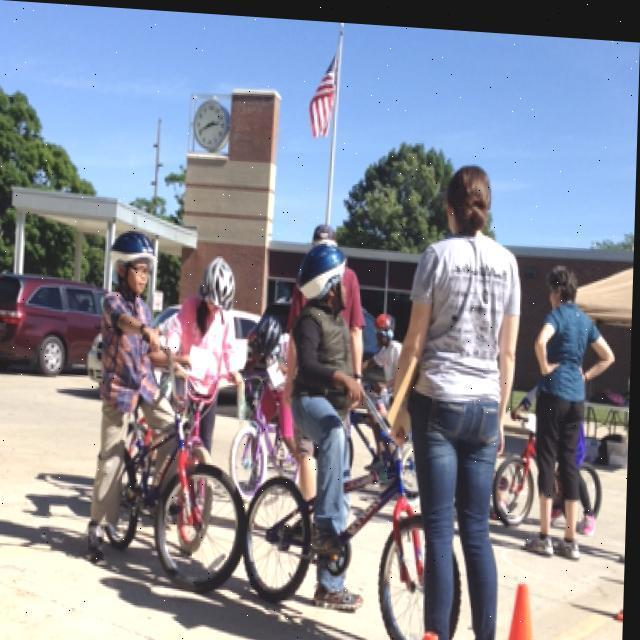Helmet: (98, 216, 164, 310), (299, 236, 350, 309)
